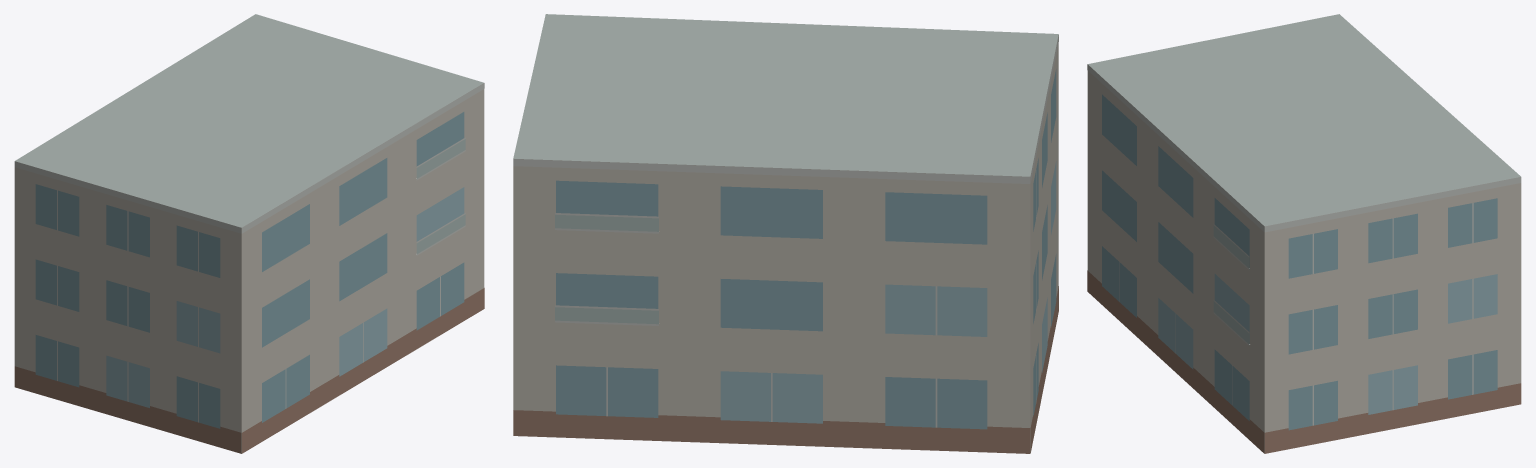
File: survey-upis-32705808.glb
The picture shows the model from 3 angles, left to right: view 1: azimuth 30°, elevation 25°; view 2: azimuth 150°, elevation 25°; view 3: azimuth 270°, elevation 25°; orthographic projection. The views are drawn at different scales.
Parts seen in each view (by area): view 1: survey-upis-32705808.tmp; view 2: survey-upis-32705808.tmp; view 3: survey-upis-32705808.tmp.
Part boxes in pixels (<box>): survey-upis-32705808.tmp: <box>14,14,484,453</box>; survey-upis-32705808.tmp: <box>513,14,1058,453</box>; survey-upis-32705808.tmp: <box>1087,14,1521,453</box>.
Bounding box in the file's own units: 18.33 × 9.15 × 15.83.
